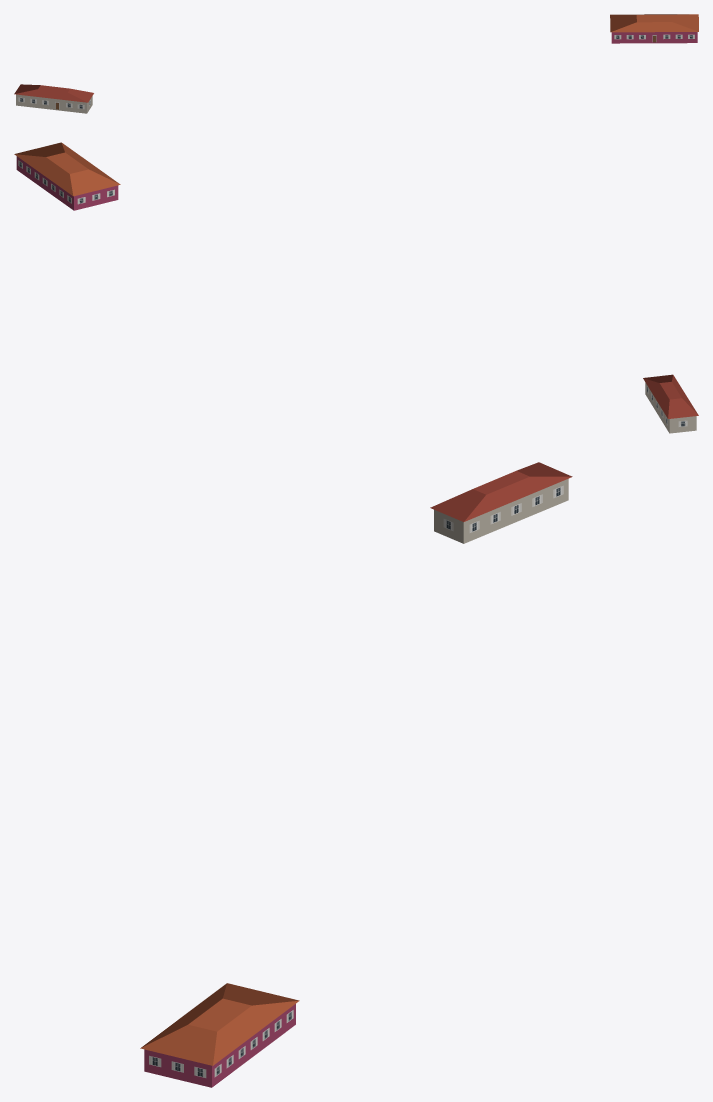
The model's file is msb_sannicolas_21_26.glb.
3 renders of one model, top to bottom at view 1: azimuth 30°, elevation 25°; view 2: azimuth 150°, elevation 25°; view 3: azimuth 270°, elevation 25°, orthographic. The views are drawn at different scales.
Visible parts, largest first — view 1: msb_sannicolas_21_26_lod0; view 2: msb_sannicolas_21_26_lod0; view 3: msb_sannicolas_21_26_lod0.
Part boxes in pixels (x1,y1,x2,y2): msb_sannicolas_21_26_lod0: (14, 14, 698, 113); msb_sannicolas_21_26_lod0: (14, 142, 698, 433); msb_sannicolas_21_26_lod0: (140, 462, 572, 1087).
Size of what is drawn, in the model's own units: 187 by 7.14 by 58.21.
Materials: 2 (1 with a texture image).
